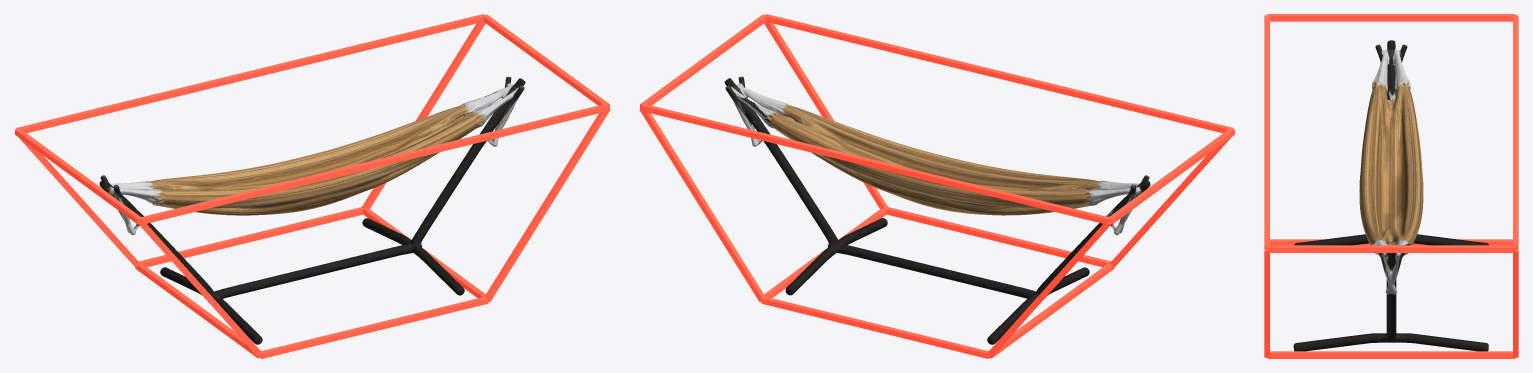
The model's file is sway-brown-ar.glb.
The picture shows the model from 3 angles, left to right: view 1: azimuth 30°, elevation 25°; view 2: azimuth 150°, elevation 25°; view 3: azimuth 270°, elevation 25°; orthographic projection.
Visible parts, largest first — view 1: footprint, Mesh_0; view 2: footprint, Mesh_0; view 3: Mesh_0, footprint.
Boxes of the visible parts, <box> form: footprint: <box>14,14,610,358</box>; Mesh_0: <box>99,76,525,344</box>; footprint: <box>639,14,1235,358</box>; Mesh_0: <box>724,76,1150,344</box>; Mesh_0: <box>1293,40,1488,351</box>; footprint: <box>1264,14,1518,358</box>.
Bounding box in the file's own units: 3.34 × 1.14 × 1.53.
Materials: 2 (1 with a texture image).
